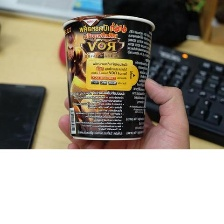paper_cup: (58, 7, 159, 145)
